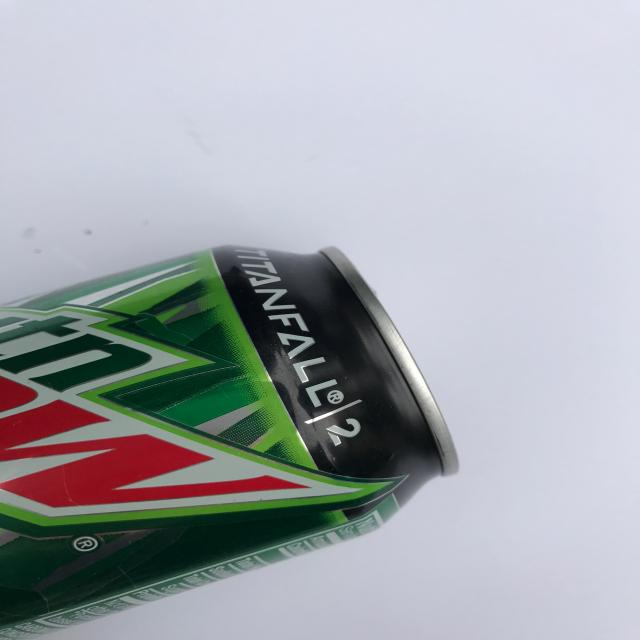Metal: (0, 237, 487, 640)
